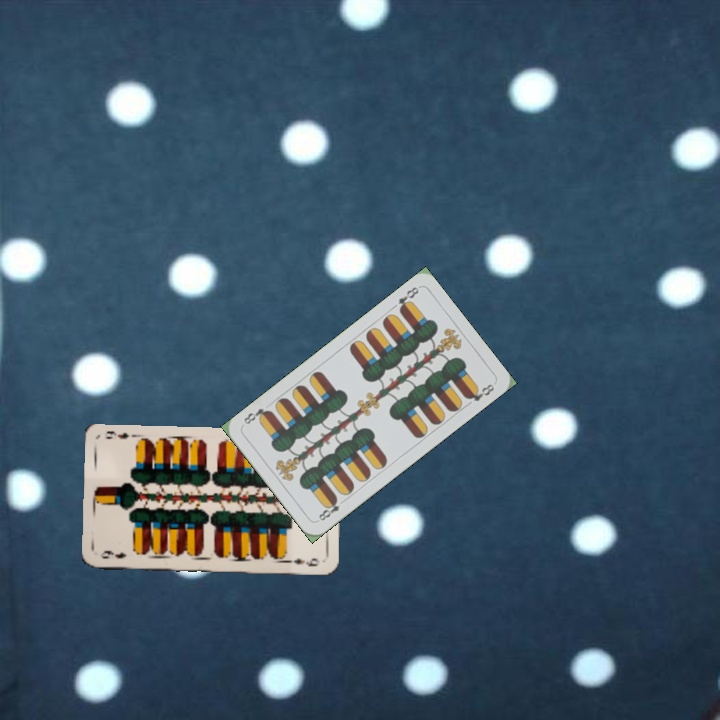E8: (313, 494, 343, 524), (394, 283, 422, 315)
E9: (96, 547, 129, 561)
